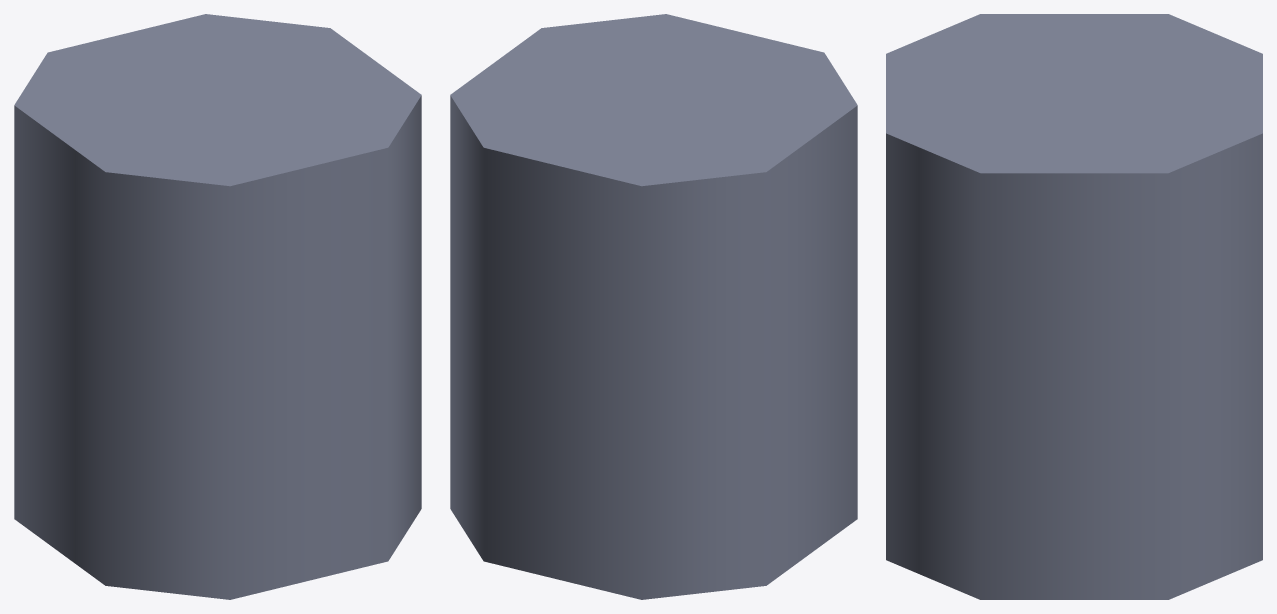
File: support-single-middle.glb
3 views of the same model, side by side, from view 1: azimuth 30°, elevation 25°; view 2: azimuth 150°, elevation 25°; view 3: azimuth 270°, elevation 25° (orthographic). The views are drawn at different scales.
Parts seen in each view (by area): view 1: support-single-middle; view 2: support-single-middle; view 3: support-single-middle.
Part boxes in pixels (bbox=[...]): support-single-middle: bbox=[14, 14, 421, 599]; support-single-middle: bbox=[450, 14, 857, 599]; support-single-middle: bbox=[886, 14, 1262, 599].
Size of the model in its own units: 0.4 by 0.5 by 0.4.
1 material, 1 textured.
